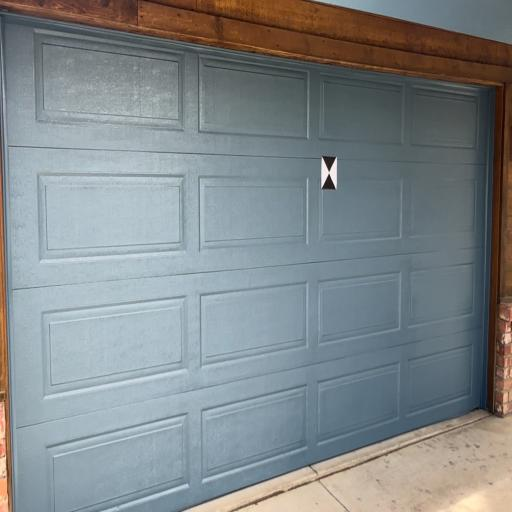target: (321, 156, 337, 189)
